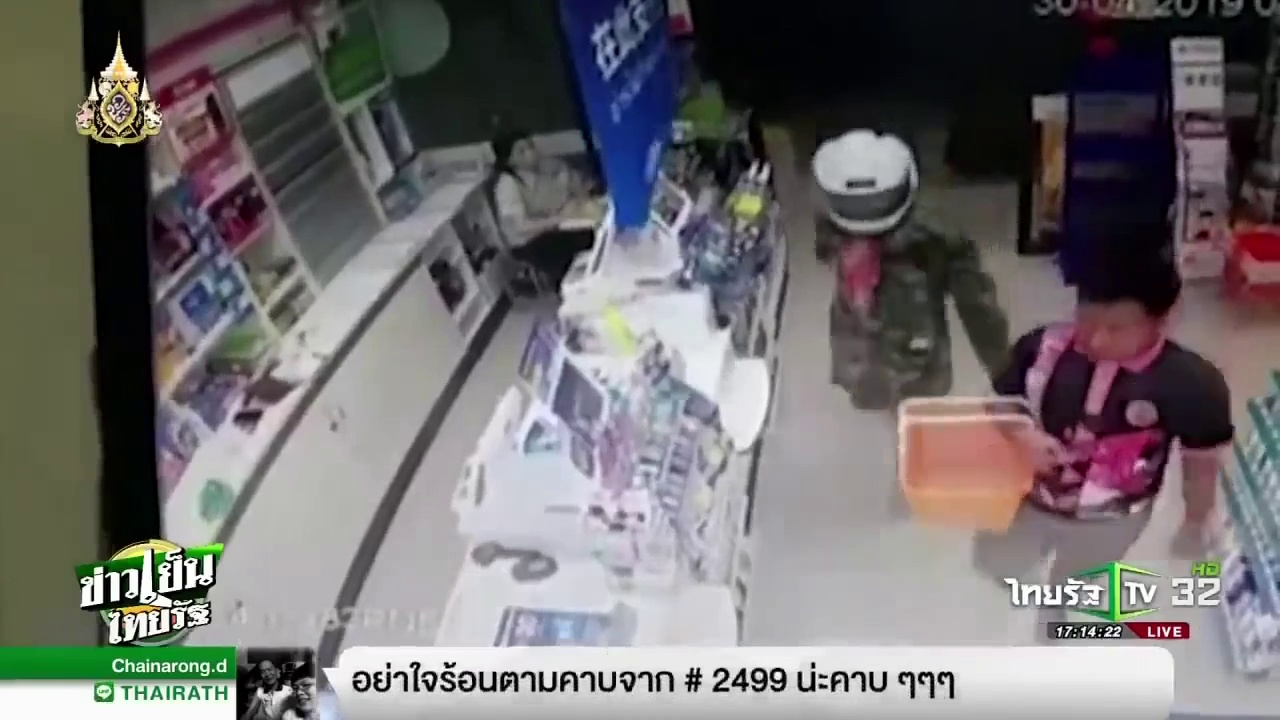helmet: (796, 119, 942, 239)
